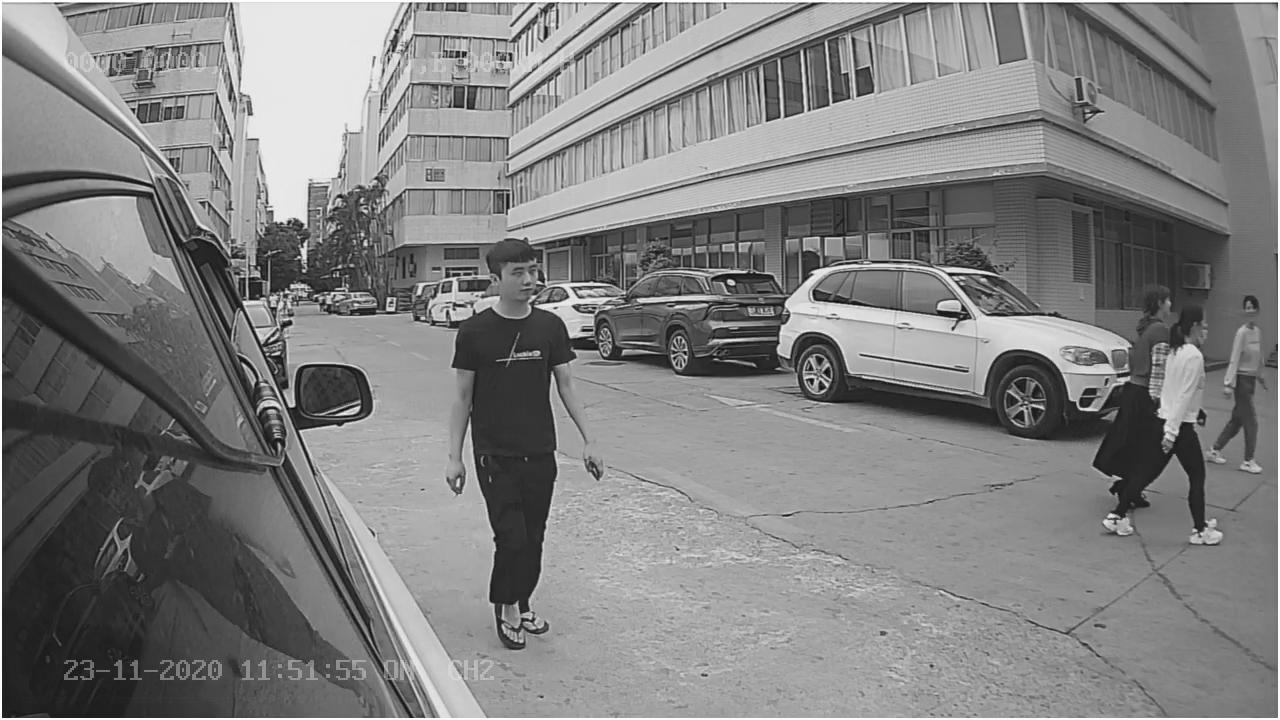person: (439, 238, 605, 647), (1097, 300, 1223, 548)
